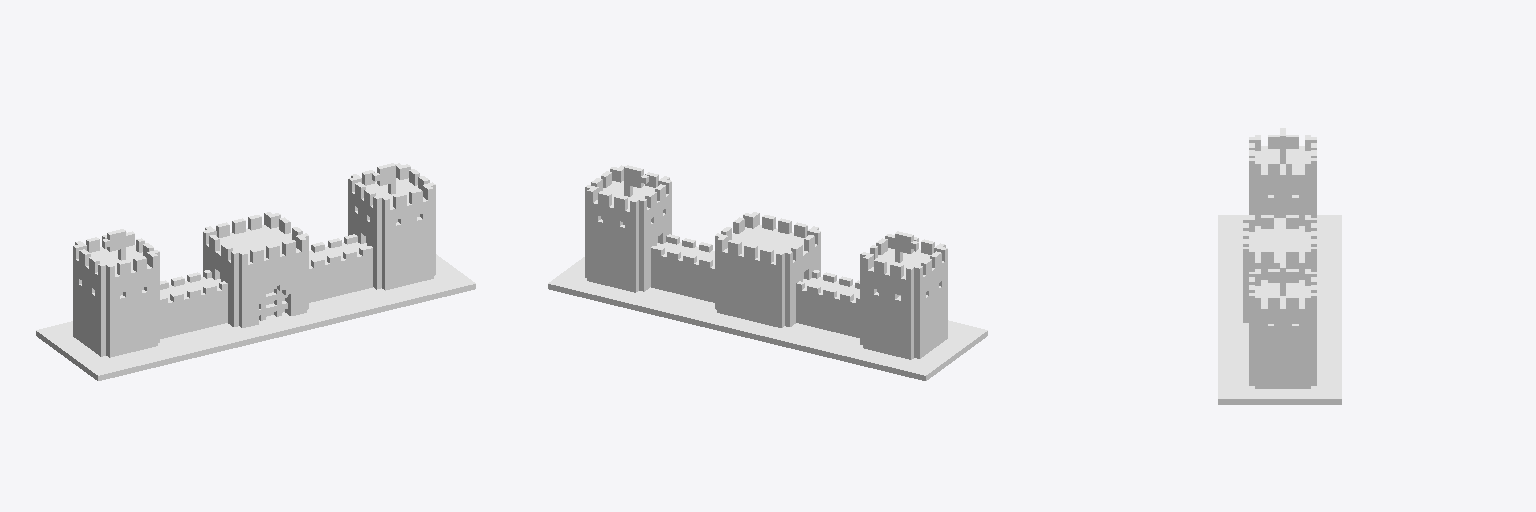
File: EnemyCastle.obj
3 views of the same model, side by side, from view 1: azimuth 30°, elevation 25°; view 2: azimuth 150°, elevation 25°; view 3: azimuth 270°, elevation 25° (orthographic).
Visible parts, largest first — view 1: EnemyCastle; view 2: EnemyCastle; view 3: EnemyCastle.
Boxes of the visible parts, x1=… form: EnemyCastle: x1=36, y1=163, x2=475, y2=380; EnemyCastle: x1=548, y1=165, x2=987, y2=380; EnemyCastle: x1=1218, y1=128, x2=1341, y2=404.
Bounding box in the file's own units: 70 × 20 × 20.